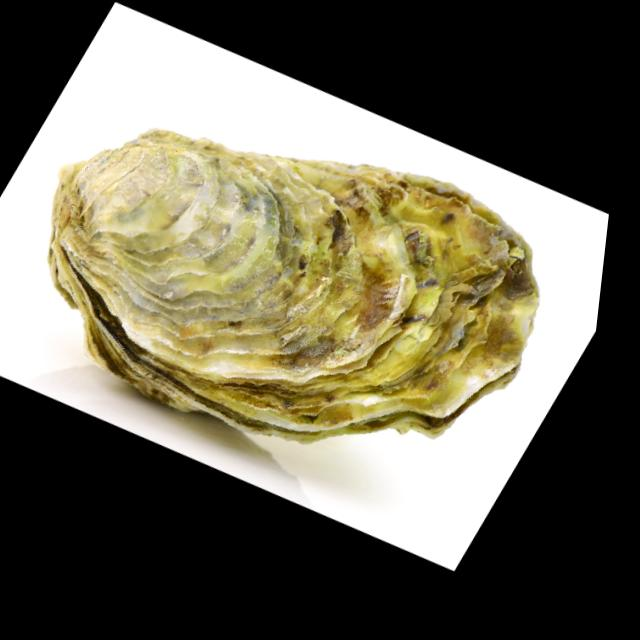Oyster-Closed: (0, 0, 622, 568)
